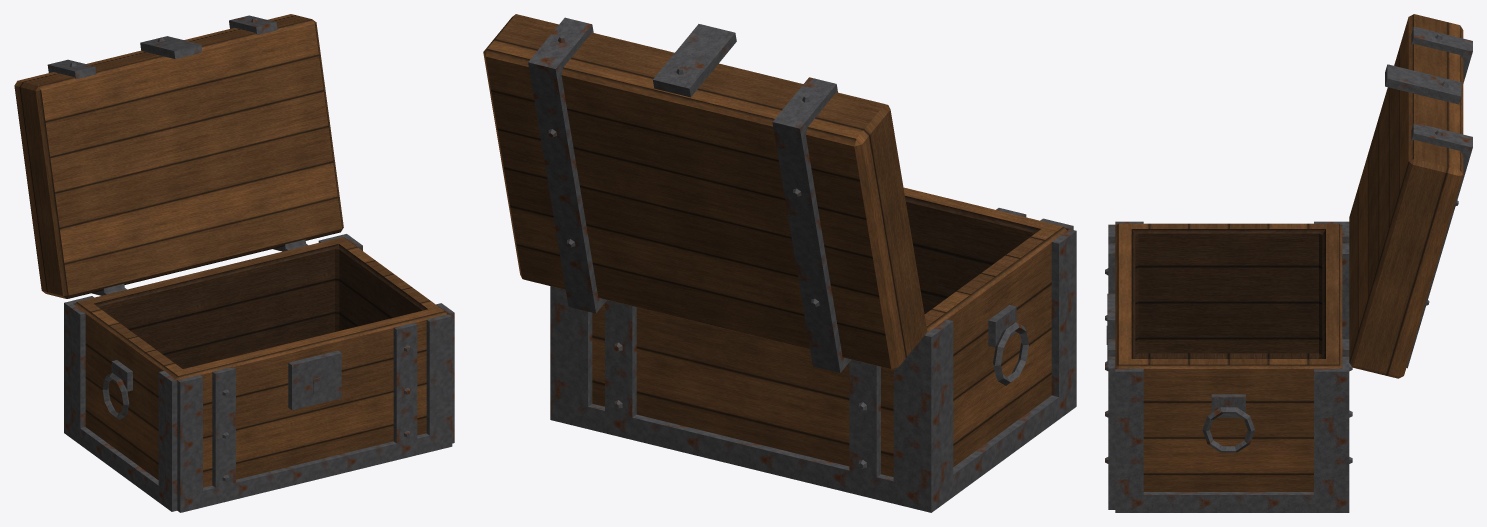
File: chest-looted.glb
The picture shows the model from 3 angles, left to right: view 1: azimuth 30°, elevation 25°; view 2: azimuth 150°, elevation 25°; view 3: azimuth 270°, elevation 25°; orthographic projection. The views are drawn at different scales.
Visible parts, largest first — view 1: Chest_Body, Chest_Lid; view 2: Chest_Lid, Chest_Body; view 3: Chest_Body, Chest_Lid.
Part boxes in pixels (x1,y1,x2,y2): Chest_Body: [64, 234, 454, 512]; Chest_Lid: [14, 14, 343, 298]; Chest_Lid: [483, 14, 927, 372]; Chest_Body: [550, 187, 1076, 512]; Chest_Body: [1105, 221, 1352, 512]; Chest_Lid: [1348, 14, 1472, 378].
Size of the model in its own units: 0.653 by 0.7128 by 0.648.
3 materials, 3 textured.
